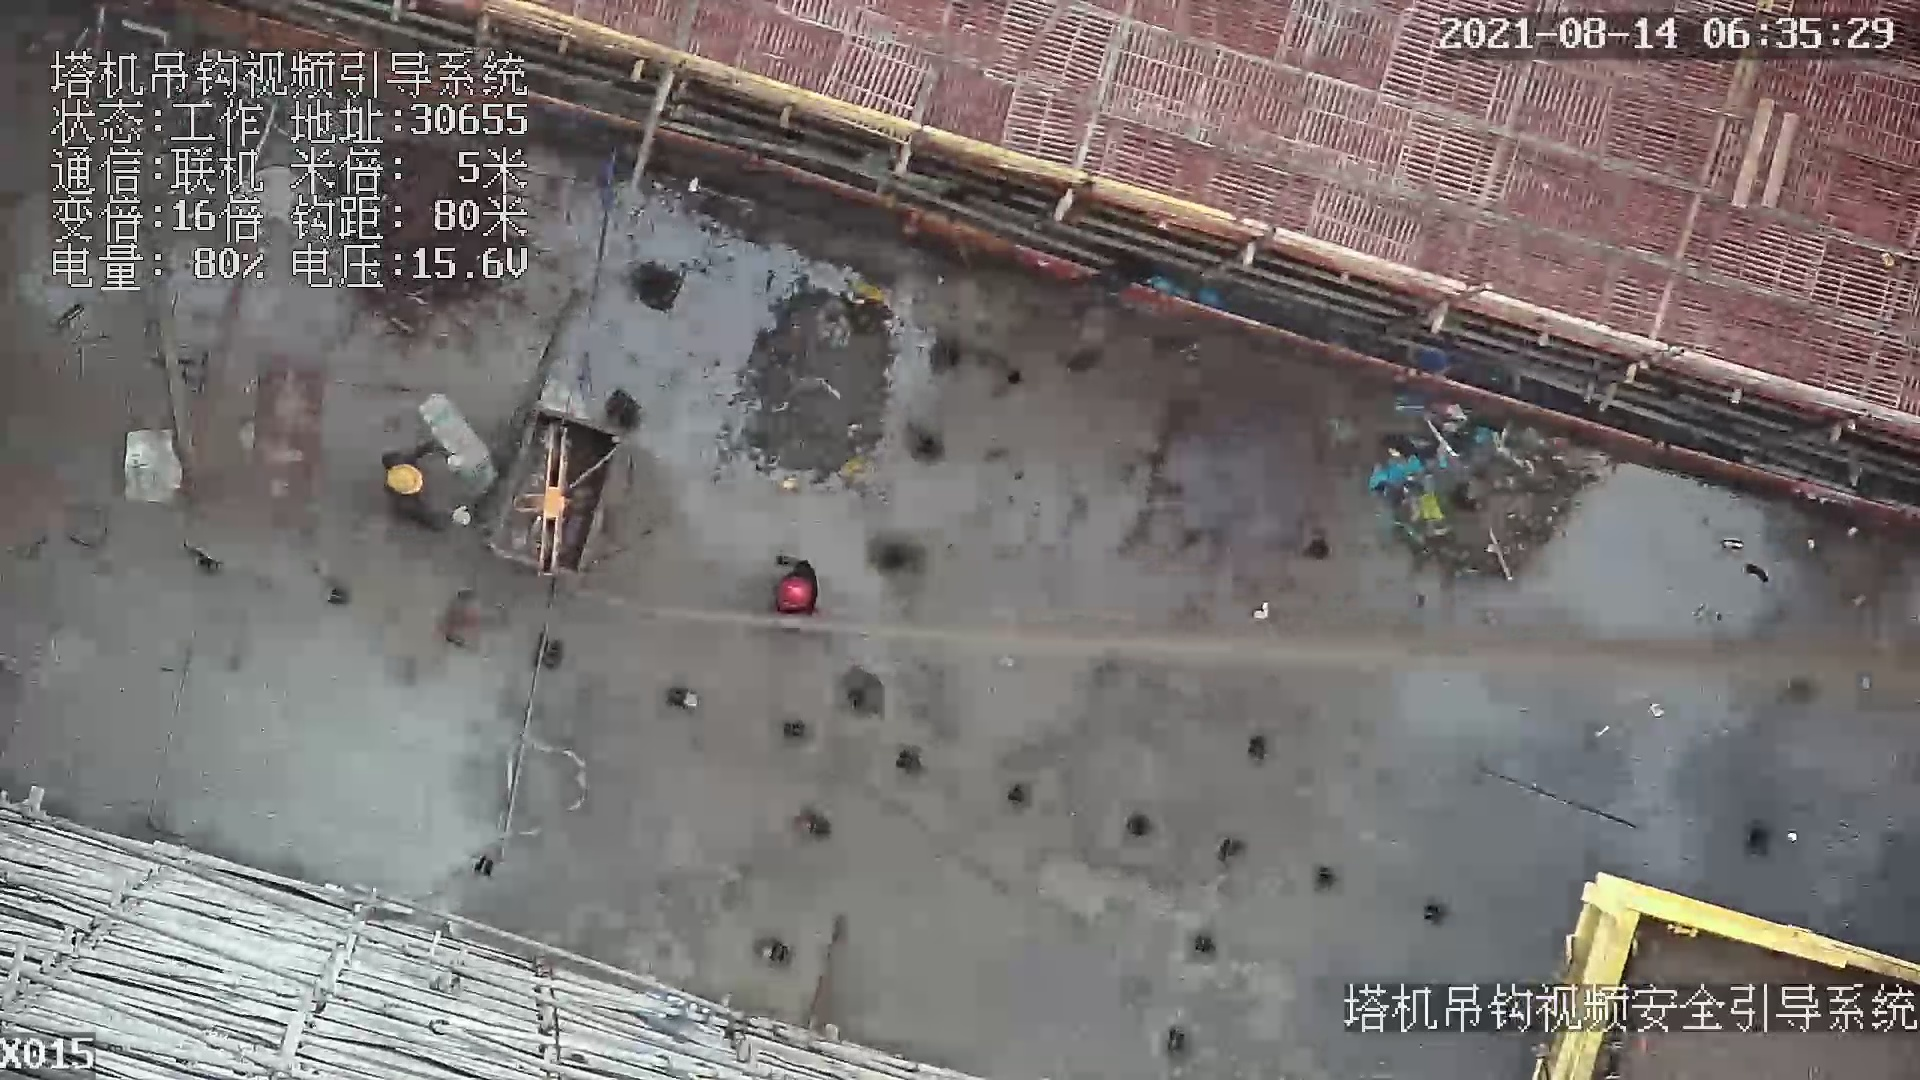helmet: (383, 464, 431, 497), (776, 577, 815, 615)
hook: (519, 423, 560, 582)
hopper: (487, 408, 632, 596)
person: (381, 439, 478, 531), (762, 546, 827, 628)
